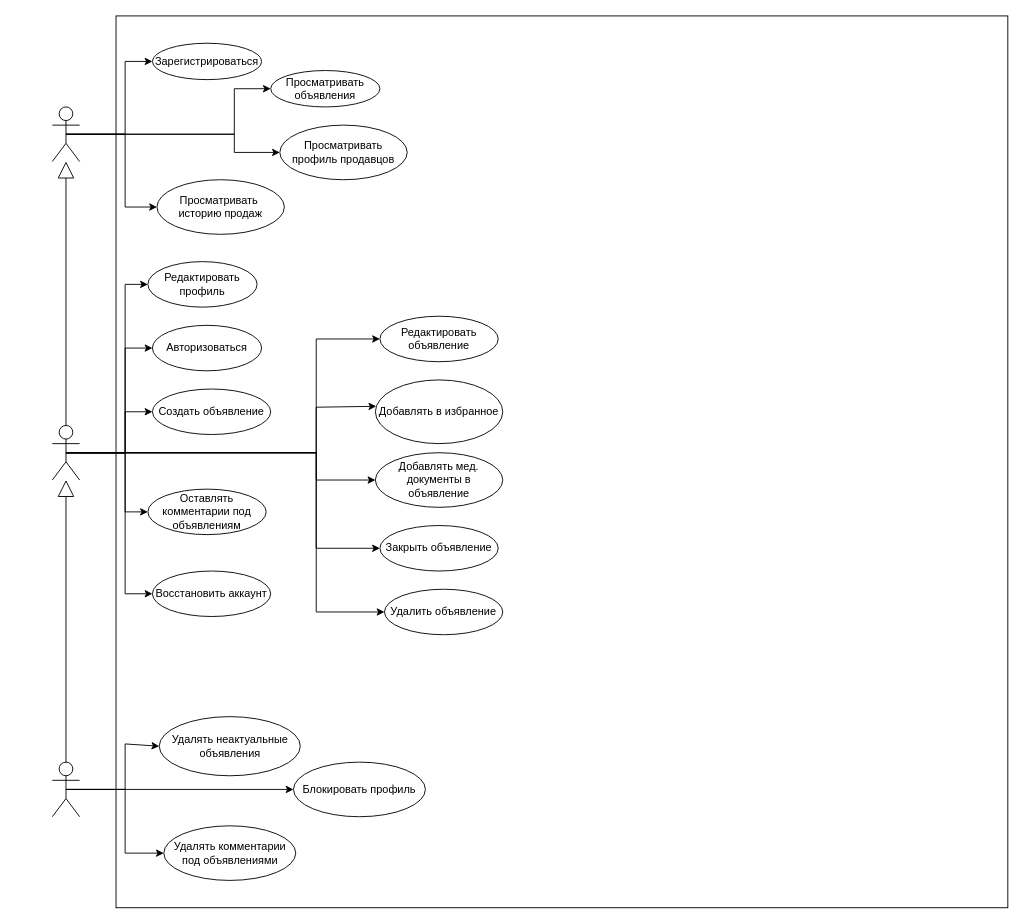
The diagram is 1024 pixels wide and 924 high, and some of its shapes have lost their labels. The box of each missing label's shape, as (x1, y1, x2, y2) in pixels:
Авторизованный пользователь: (51, 425, 80, 480)
Администратор: (51, 761, 80, 817)
Неавторизованный пользователь: (51, 106, 80, 162)
